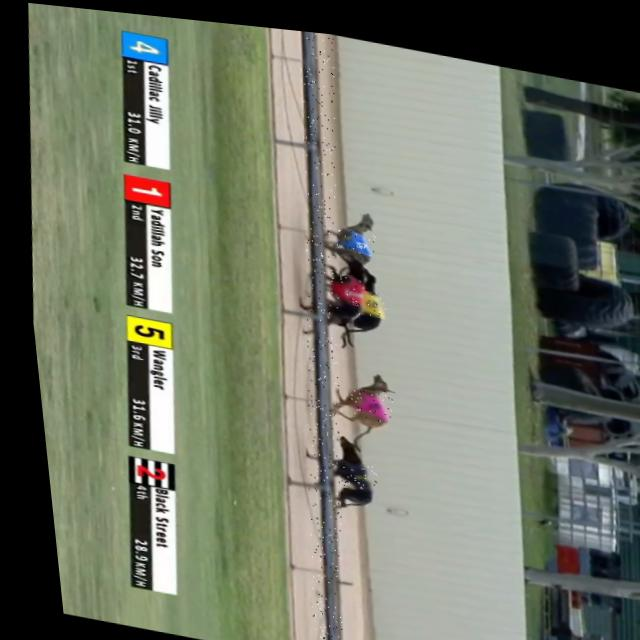dog_eight: (336, 380, 385, 416)
dog_five: (347, 281, 381, 311)
dog_four: (326, 220, 372, 250)
dog_one: (322, 267, 359, 299)
dog_seven: (324, 452, 367, 486)
rail: (301, 25, 328, 640)
